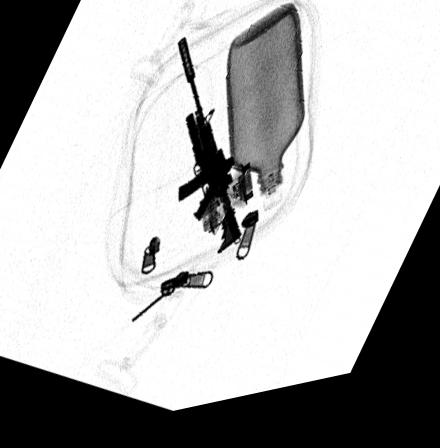Gun: (178, 44, 243, 263)
